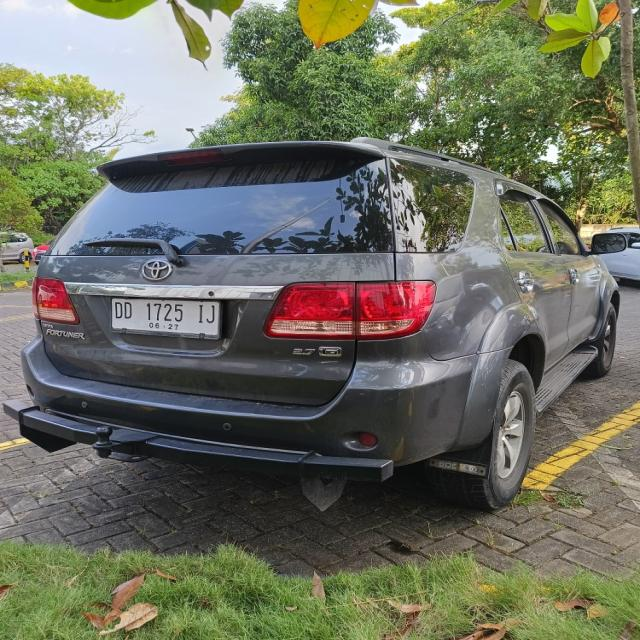plates: (105, 298, 228, 342)
